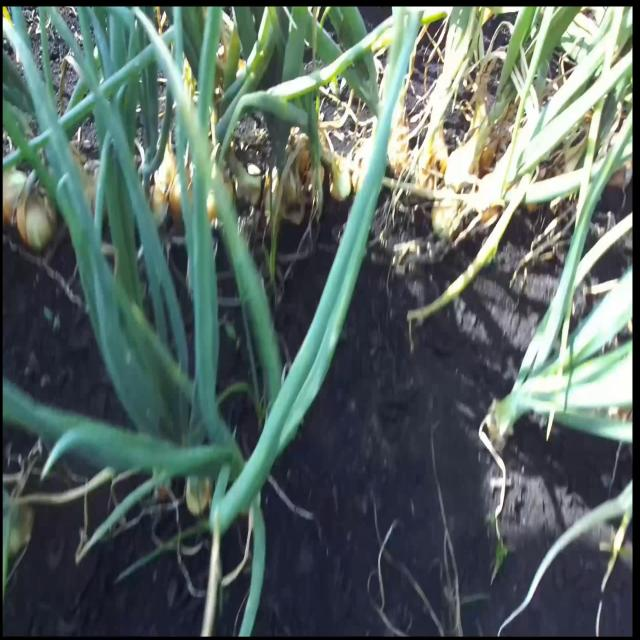onion: (15, 184, 56, 253), (444, 143, 476, 195), (429, 192, 461, 242)
